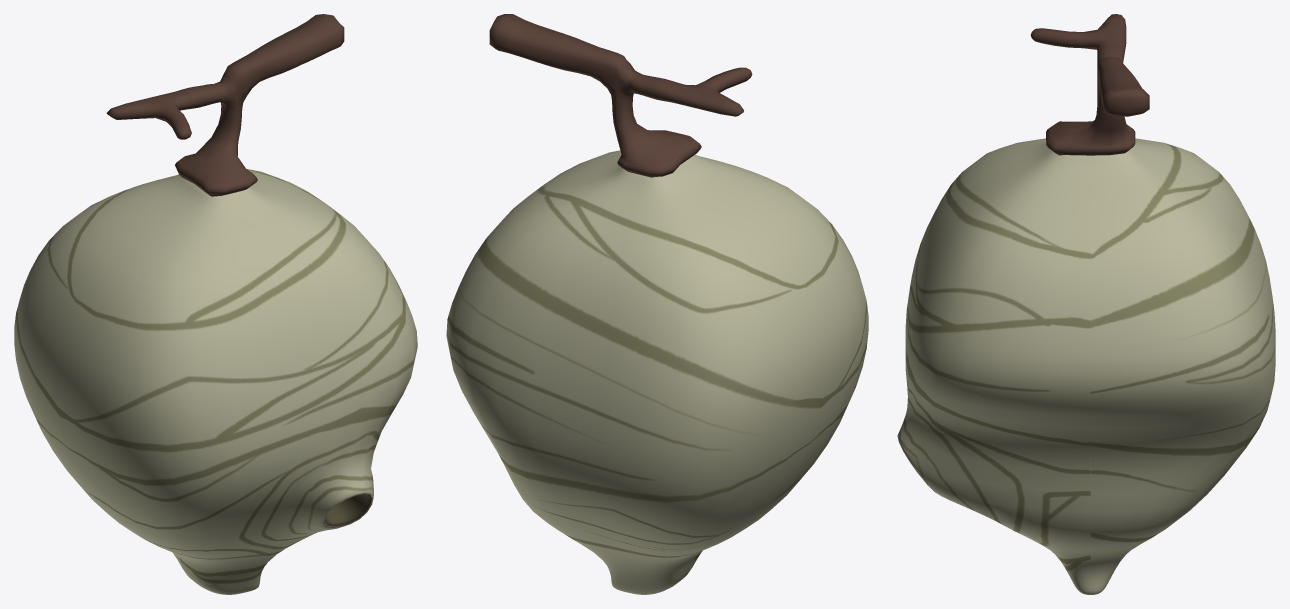
File: Bee hive unwrapped.fbx
3 renders of one model, left to right at view 1: azimuth 30°, elevation 25°; view 2: azimuth 150°, elevation 25°; view 3: azimuth 270°, elevation 25°, orthographic. The views are drawn at different scales.
Visible parts, largest first — view 1: BeehiveStem_AS; view 2: BeehiveStem_AS; view 3: BeehiveStem_AS.
Part boxes in pixels (x1,y1,x2,y2): BeehiveStem_AS: [14, 14, 417, 594]; BeehiveStem_AS: [446, 14, 868, 594]; BeehiveStem_AS: [897, 14, 1275, 594].
Size of the model in its own units: 9.77 by 15.56 by 9.64.
Materials: 1 (1 with a texture image).
